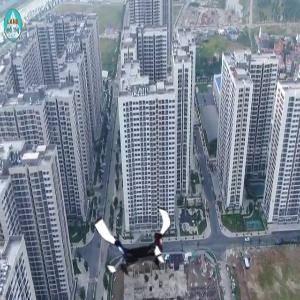drone: (97, 199, 182, 284)
